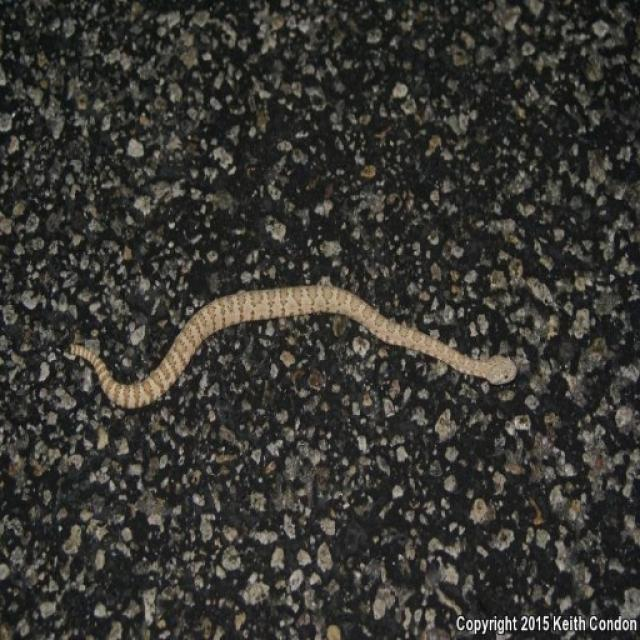snake: (46, 272, 528, 416)
